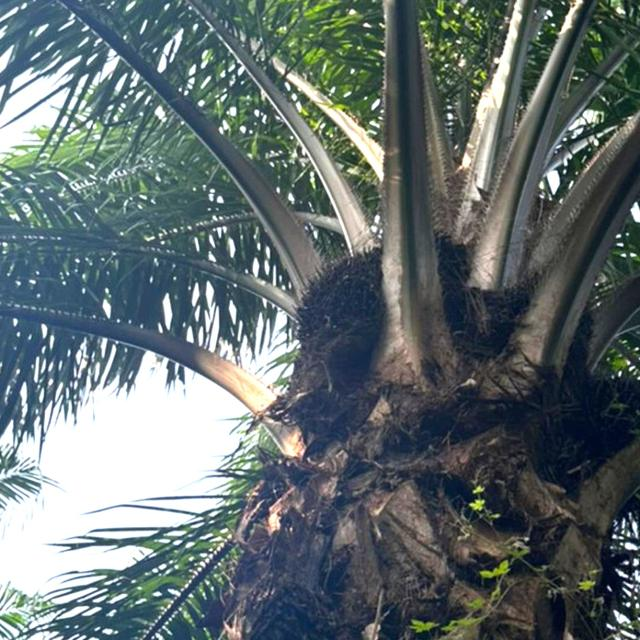unripe: (282, 235, 428, 382)
